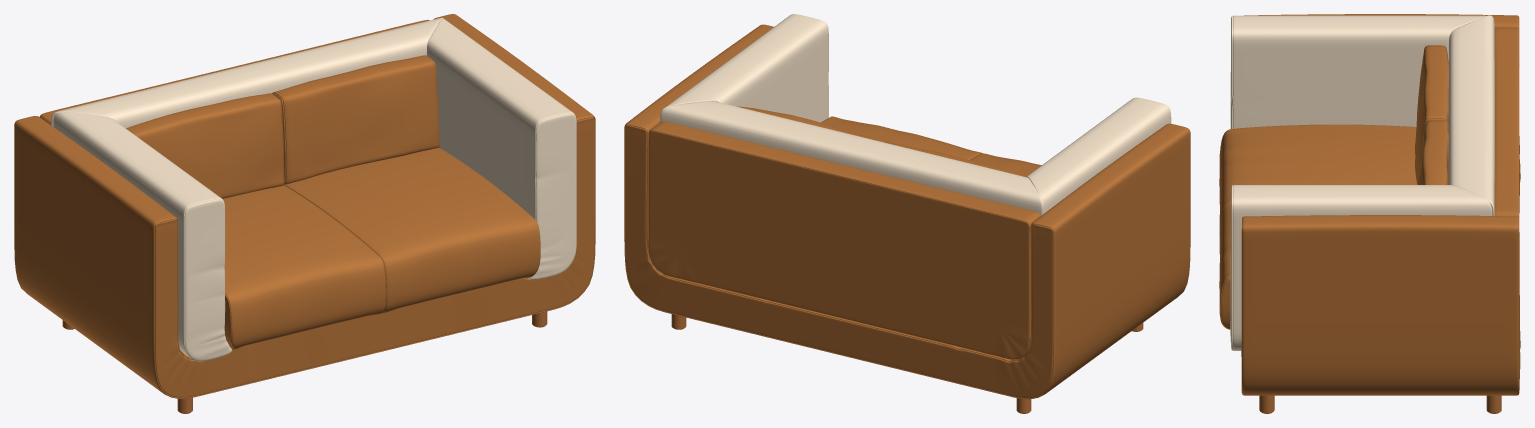
3 renders of one model, left to right at view 1: azimuth 30°, elevation 25°; view 2: azimuth 150°, elevation 25°; view 3: azimuth 270°, elevation 25°, orthographic. The views are drawn at different scales.
Visible parts, largest first — view 1: cgaxis_models_07_08_01, cgaxis_models_07_08_02, cgaxis_models_07_08_03; view 2: cgaxis_models_07_08_01, cgaxis_models_07_08_02, cgaxis_models_07_08_03; view 3: cgaxis_models_07_08_01, cgaxis_models_07_08_02, cgaxis_models_07_08_03.
Part boxes in pixels (x1,y1,x2,y2): cgaxis_models_07_08_01: (14, 14, 595, 398); cgaxis_models_07_08_02: (51, 17, 576, 361); cgaxis_models_07_08_03: (62, 311, 547, 413); cgaxis_models_07_08_01: (624, 24, 1190, 399); cgaxis_models_07_08_02: (660, 14, 1171, 215); cgaxis_models_07_08_03: (671, 314, 1143, 413); cgaxis_models_07_08_01: (1219, 14, 1520, 395); cgaxis_models_07_08_02: (1230, 15, 1494, 350); cgaxis_models_07_08_03: (1259, 395, 1501, 413).
Size of the model in its own units: 78.72 by 37.74 by 46.97.
